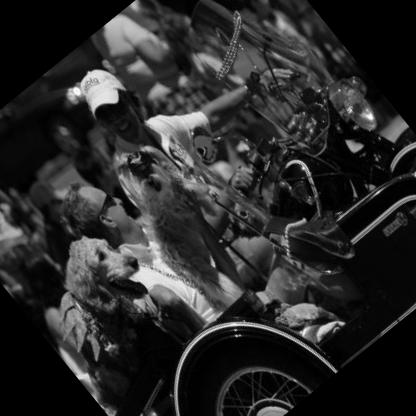moto: (165, 1, 416, 227)
